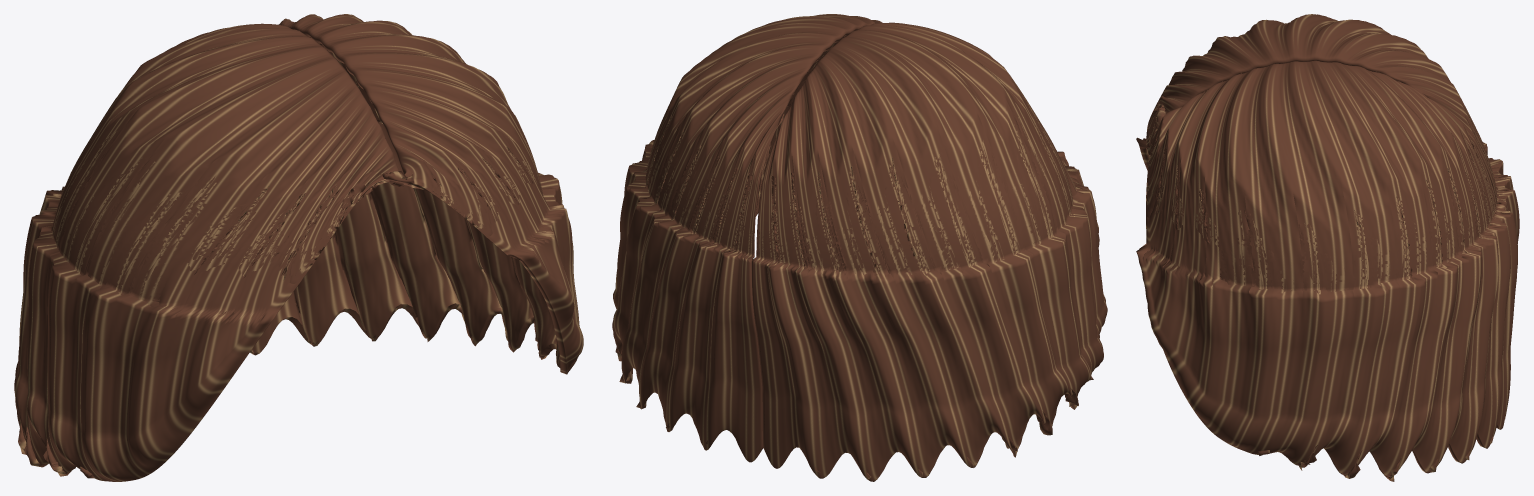
The model's file is Highlights-3270370b013b252-hair.glb.
3 renders of one model, left to right at view 1: azimuth 30°, elevation 25°; view 2: azimuth 150°, elevation 25°; view 3: azimuth 270°, elevation 25°, orthographic. The views are drawn at different scales.
Visible parts, largest first — view 1: 226 hair / Hair252 / flowing sculpt flow.001; view 2: 226 hair / Hair252 / flowing sculpt flow.001; view 3: 226 hair / Hair252 / flowing sculpt flow.001.
Boxes of the visible parts, x1,y1,x2,y2 form: 226 hair / Hair252 / flowing sculpt flow.001: (14,14,583,481); 226 hair / Hair252 / flowing sculpt flow.001: (612,14,1107,481); 226 hair / Hair252 / flowing sculpt flow.001: (1136,14,1519,481).
Bounding box in the file's own units: 1.11 × 0.8603 × 0.8343.
Materials: 1 (1 with a texture image).
